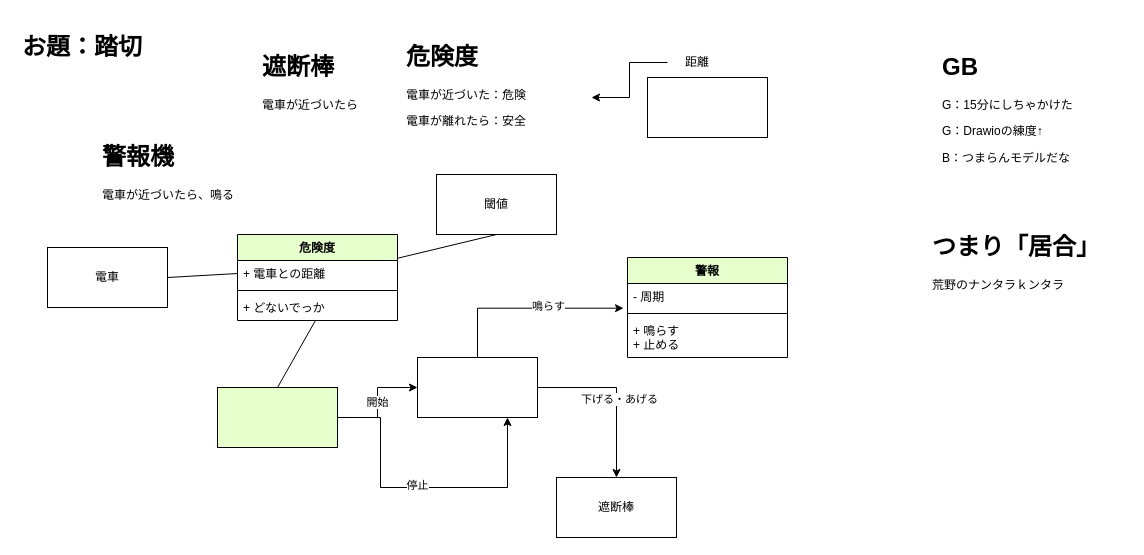
Some shapes in this 1144 by 555 pixel diagram are drawn without their labels. The centre of each missing label's shape, as x and y in pixels:
位置: [707,107]
対処: [477,387]
踏切: [277,417]
